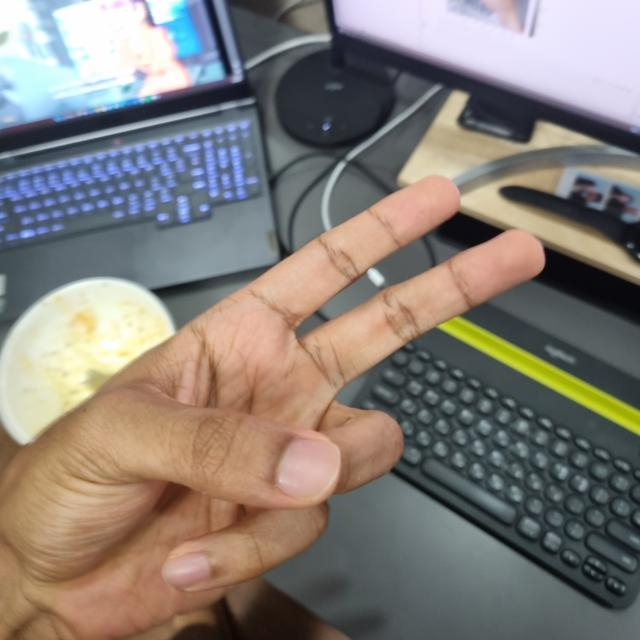Scissors: (7, 181, 544, 639)
